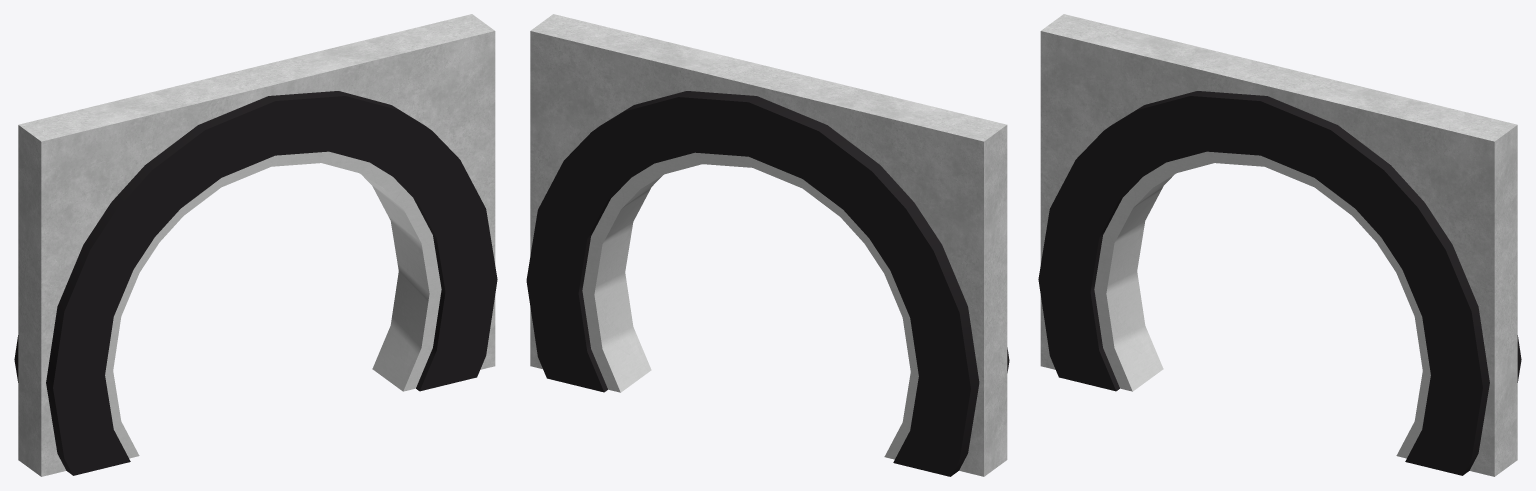
Rendered from Door 1.obj.
3 views of the same model, side by side, from view 1: azimuth 30°, elevation 25°; view 2: azimuth 150°, elevation 25°; view 3: azimuth 330°, elevation 25° (orthographic).
Visible parts, largest first — view 1: Wall1, Outerrim1, Innerrim1; view 2: Outerrim1, Wall1, Innerrim1; view 3: Wall1, Outerrim1, Innerrim1.
Boxes of the visible parts, x1,y1,x2,y2 form: Wall1: [18, 14, 495, 476]; Outerrim1: [14, 91, 497, 475]; Innerrim1: [105, 151, 441, 458]; Outerrim1: [526, 91, 1009, 476]; Wall1: [530, 14, 1007, 476]; Innerrim1: [582, 152, 918, 459]; Wall1: [1040, 14, 1517, 476]; Outerrim1: [1038, 91, 1521, 475]; Innerrim1: [1094, 151, 1430, 458].
Bounding box in the file's own units: 17 × 12 × 2.5.
